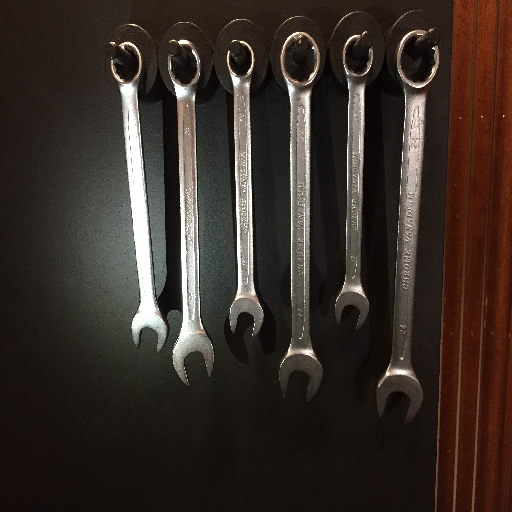bottom: (374, 362, 424, 426), (170, 325, 215, 386), (278, 344, 323, 403), (130, 306, 171, 354), (334, 282, 370, 332), (227, 294, 265, 340)
top: (394, 28, 441, 95), (278, 30, 321, 90), (165, 37, 205, 94), (108, 40, 145, 90), (341, 32, 374, 82), (223, 38, 258, 85)
